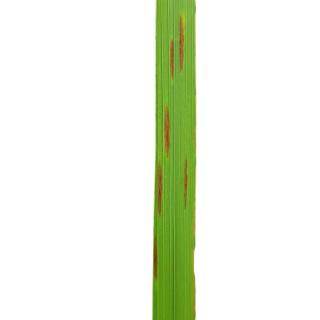Bercak-Cokelat-Sempit: (165, 12, 189, 82), (156, 104, 174, 160), (152, 232, 165, 278), (155, 162, 164, 214), (181, 157, 188, 211)
